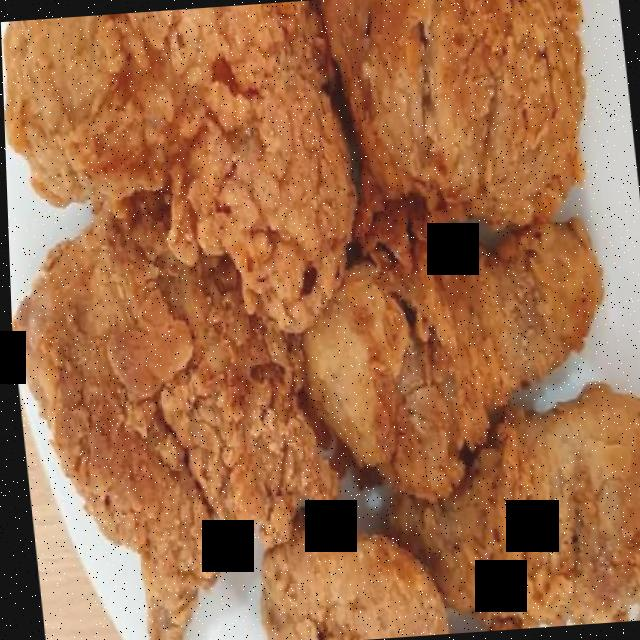Frango: (6, 207, 350, 640), (0, 2, 368, 339), (291, 215, 628, 512), (382, 382, 640, 636), (327, 0, 603, 237), (253, 525, 447, 640)
